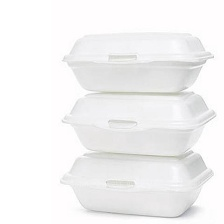foam_box: (55, 86, 220, 160), (57, 23, 220, 97), (55, 147, 217, 220)
